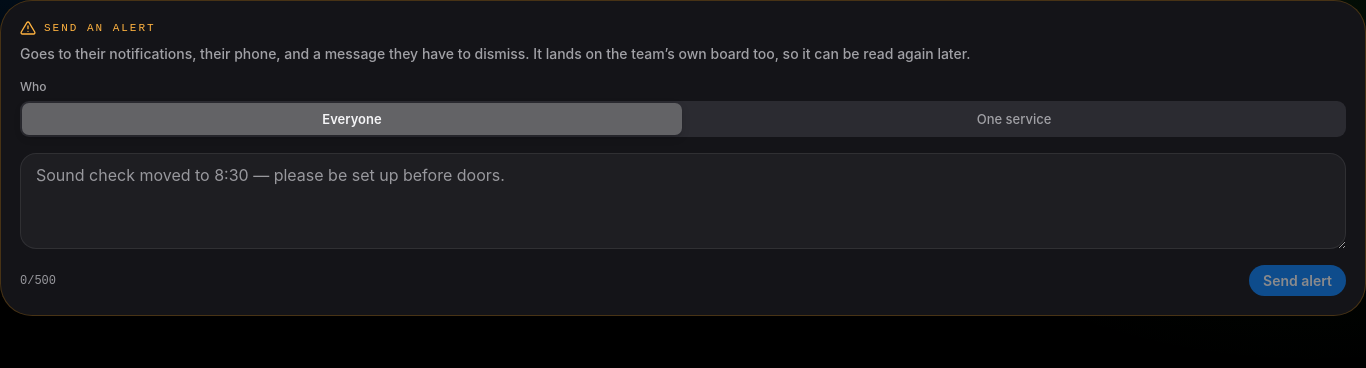
Test case: TeamAlertPanel › sends to the whole team by default
Expected: the text "Send an alert" is shown, [44,22,156,34]
In the text box: point(683, 201) [20,153,1346,249], type "Sound check at 8:30"
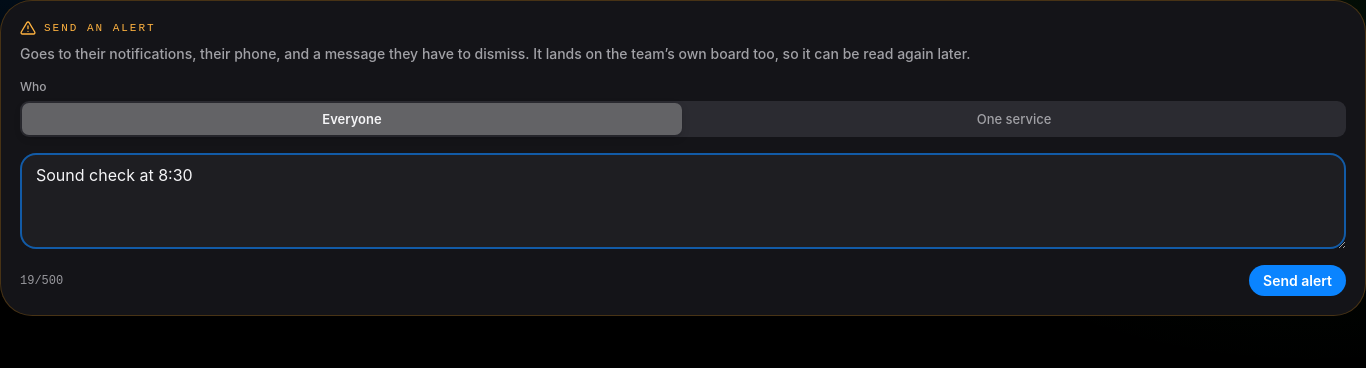
Click the button "Send alert": point(1298, 280) [1249,265,1346,296]
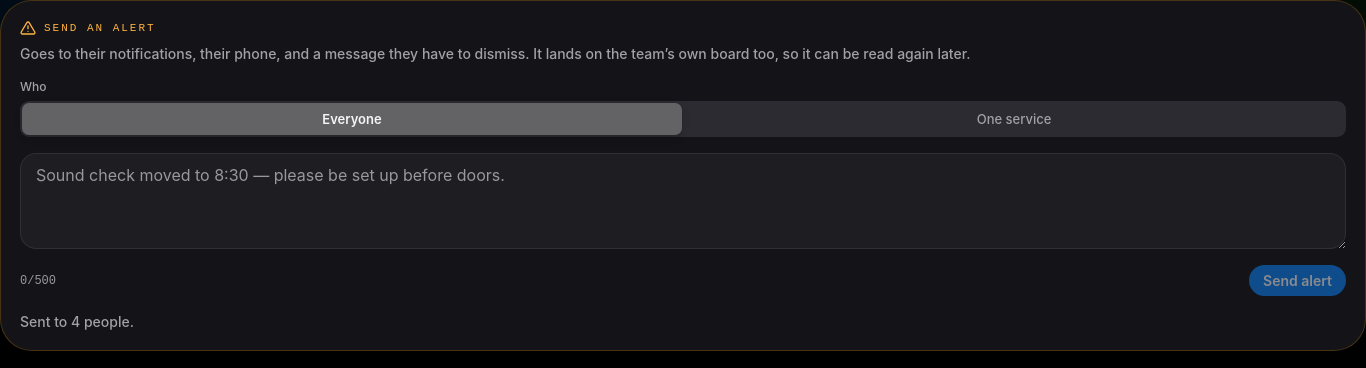
Expected: the text "Sent to 4 people." is shown, [20,313,134,330]
